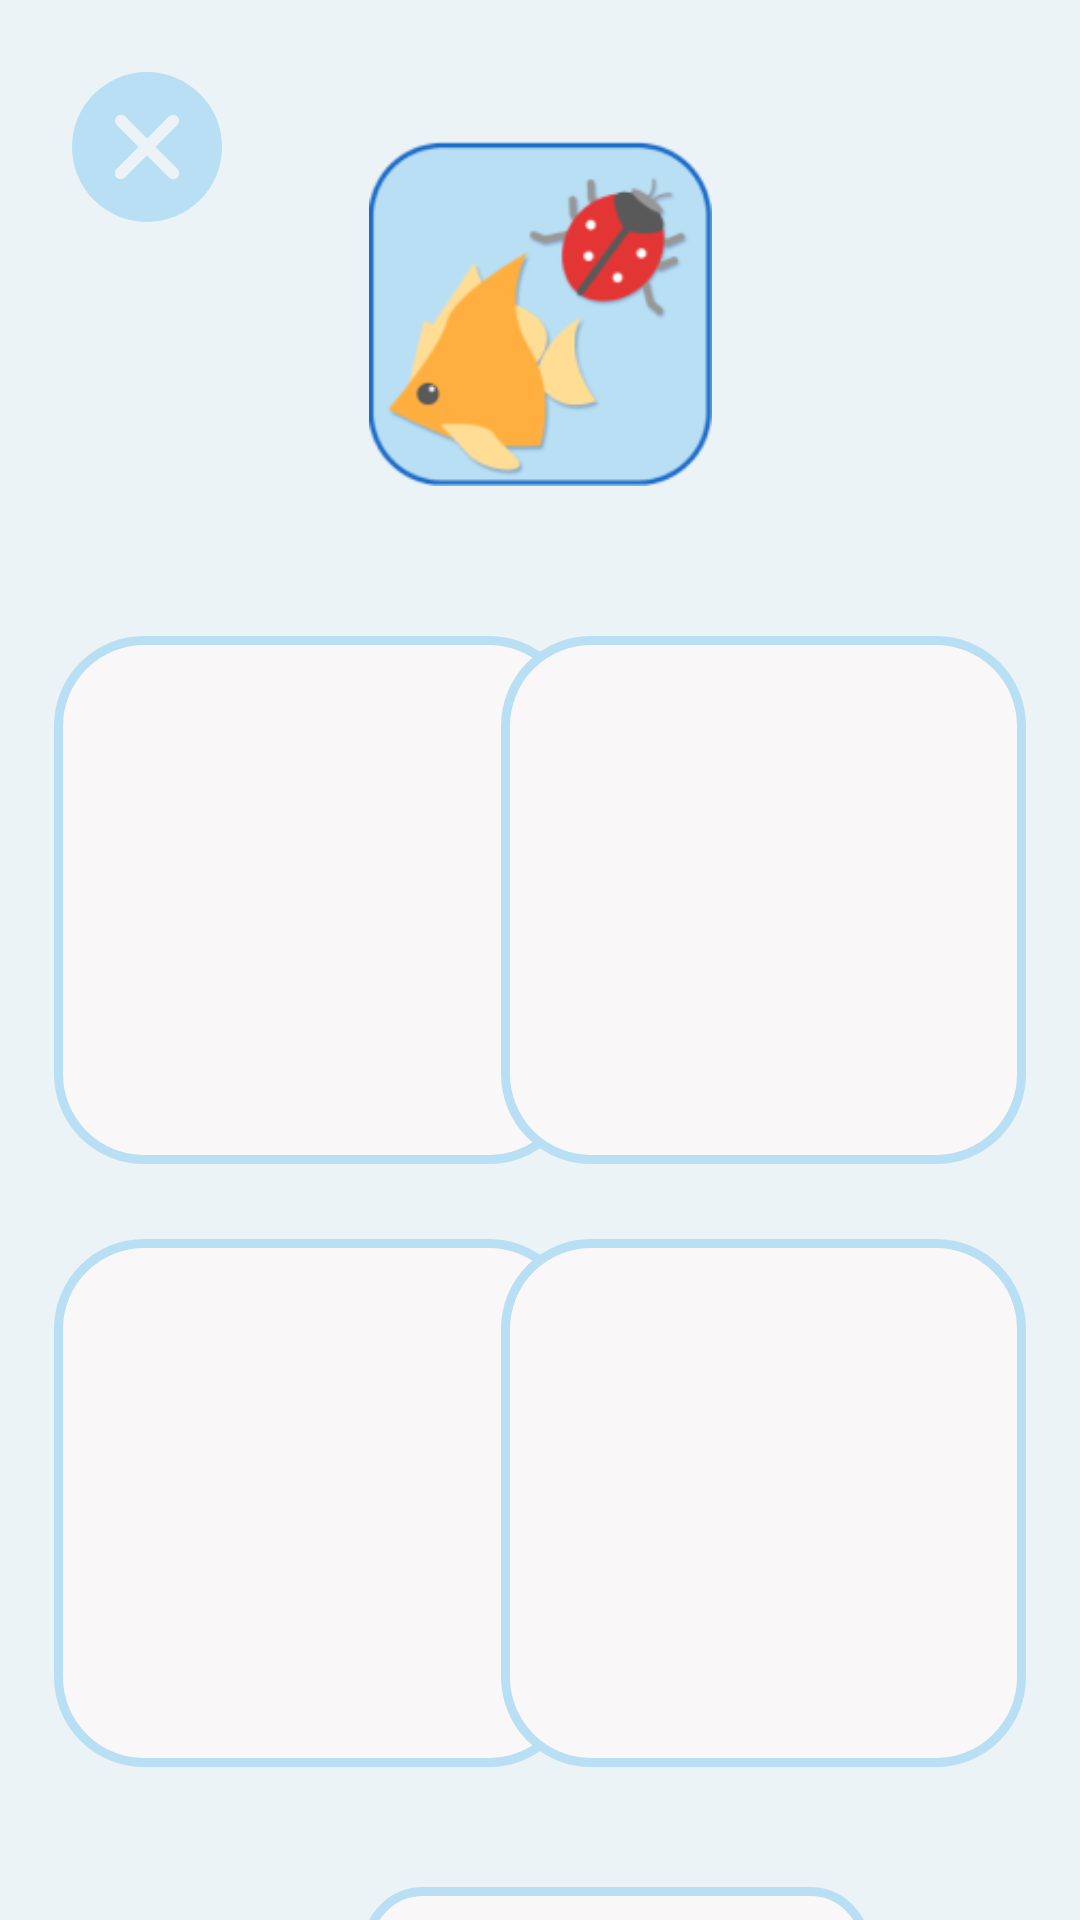

Icon bounding boxes for this 1080px×1920px phone screenshot, format (x1, y1, x2, y2):
animalgameexit: (72, 72, 222, 222)
animalgameicon: (369, 142, 712, 486)
